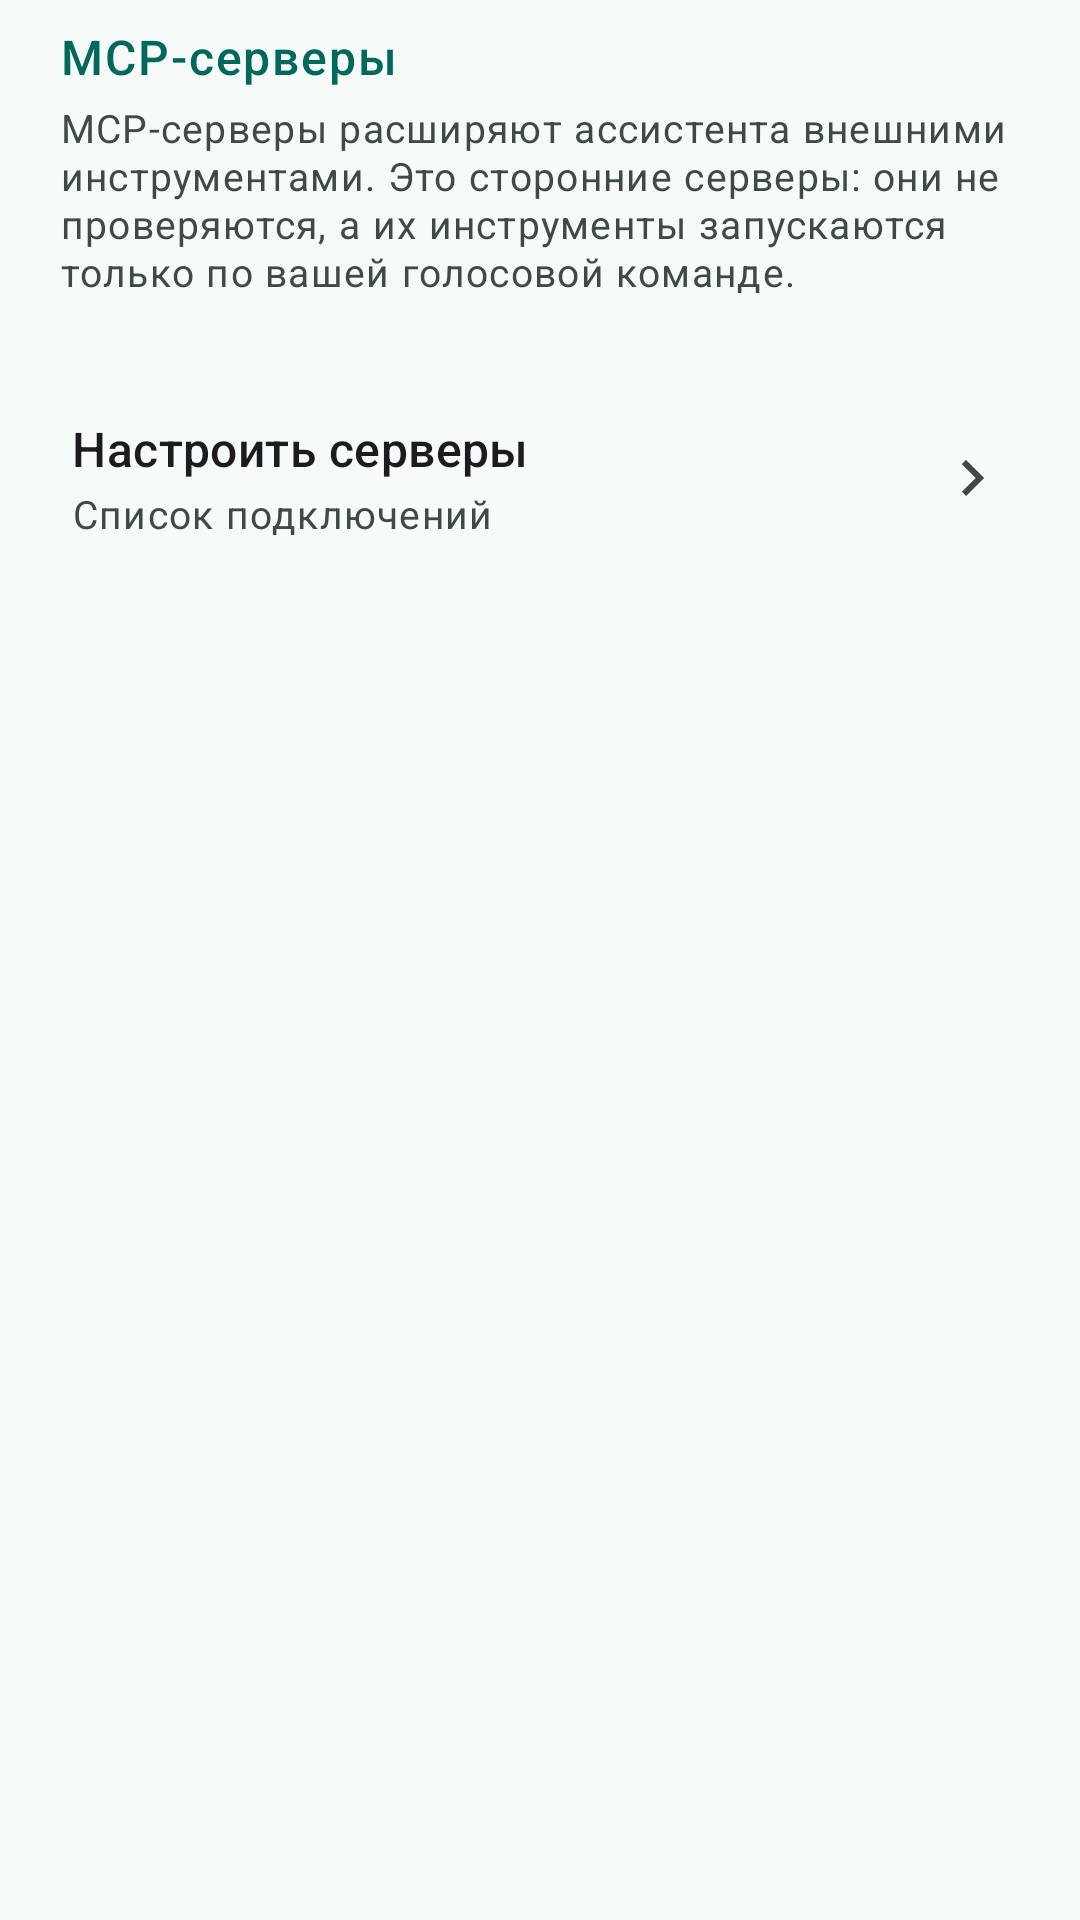

Icons on this 1080 × 1920 Android screen, each with the point to tap as (x=x, y=y):
keyboard arrow right: (x=973, y=478)
